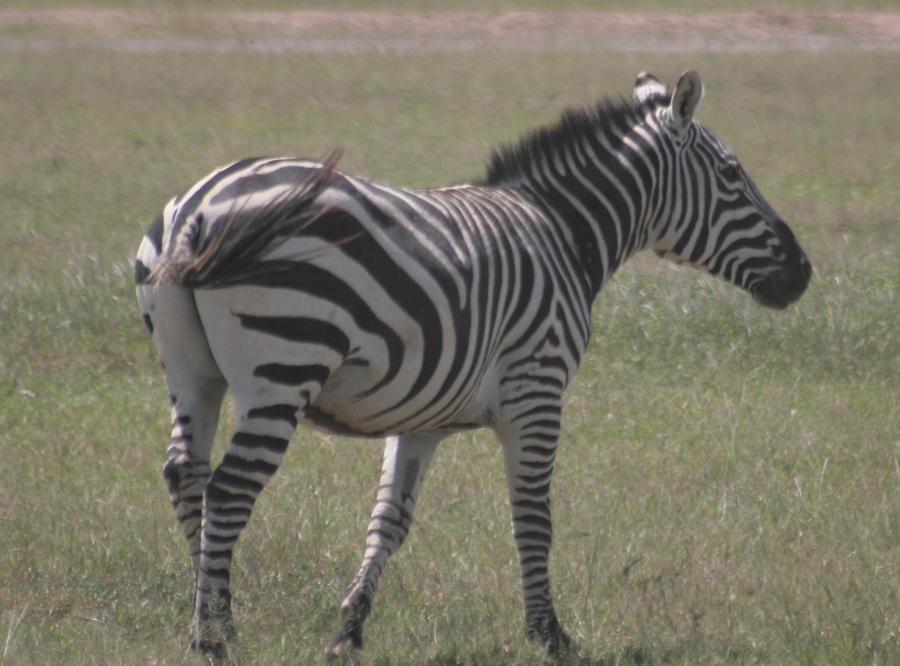zebra_plains: (227, 160, 616, 457)
